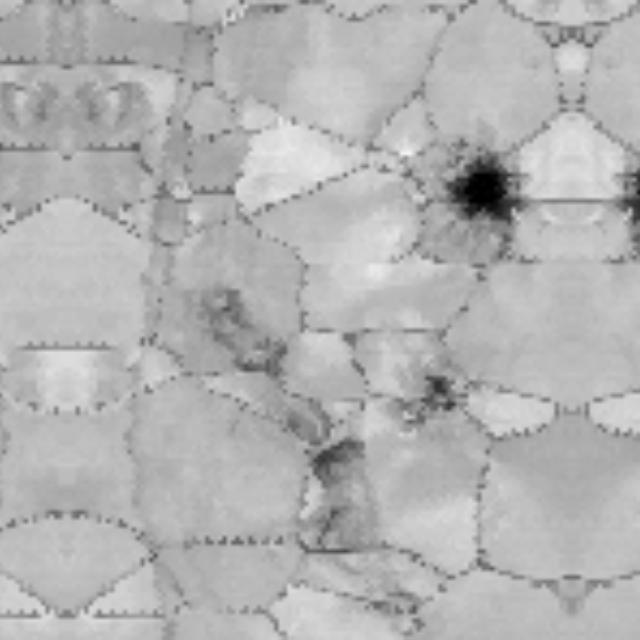good_void: (190, 281, 288, 388), (439, 153, 540, 241), (387, 365, 469, 448), (69, 69, 158, 139), (297, 492, 378, 551), (0, 69, 65, 139), (300, 426, 375, 482), (606, 153, 640, 241)
